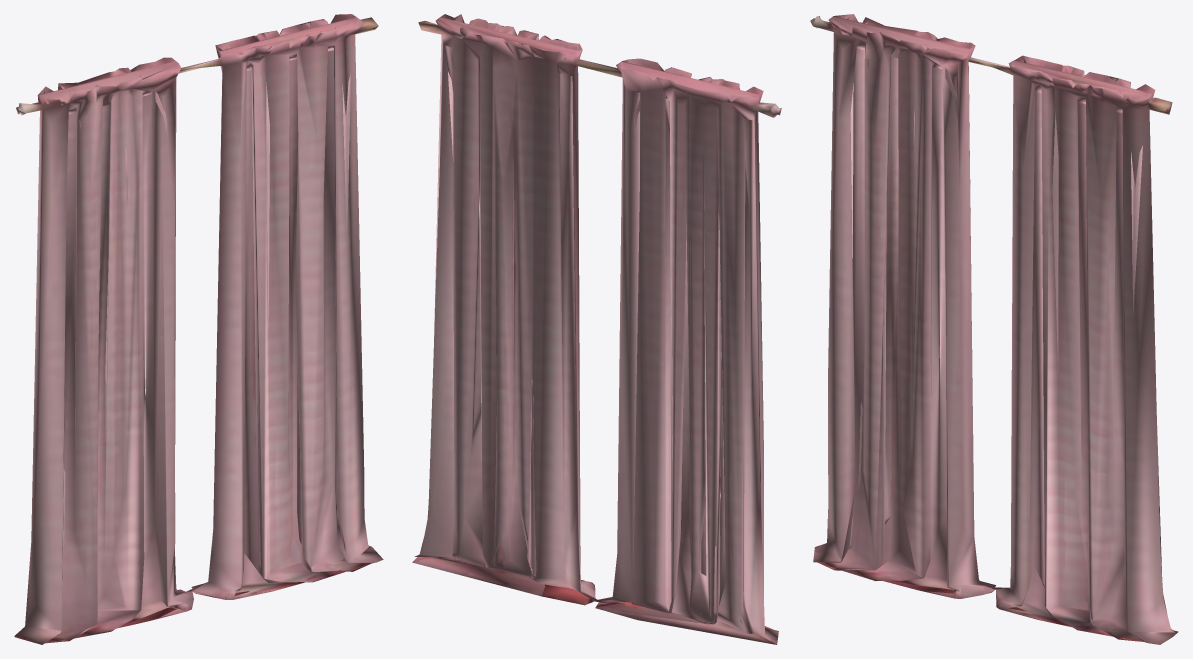
The model's file is curtain.glb.
3 views of the same model, side by side, from view 1: azimuth 30°, elevation 25°; view 2: azimuth 150°, elevation 25°; view 3: azimuth 330°, elevation 25° (orthographic).
Parts seen in each view (by area): view 1: node_0; view 2: node_0; view 3: node_0.
Part boxes in pixels (x1,y1,x2,y2): node_0: [14, 14, 383, 644]; node_0: [412, 14, 781, 644]; node_0: [810, 14, 1178, 644].
Size of the model in its own units: 0.6883 by 0.9894 by 0.09.
1 material, 1 textured.
